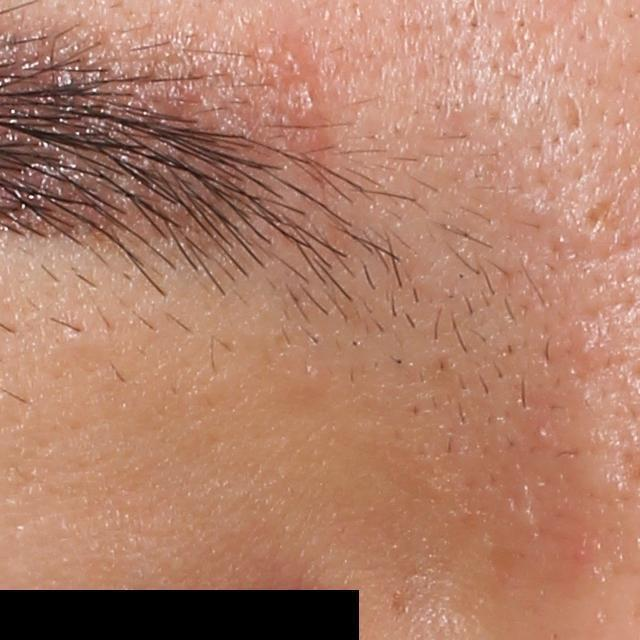atrophic_scar: (550, 87, 588, 143), (583, 197, 615, 232)
melasma: (390, 588, 414, 617)
